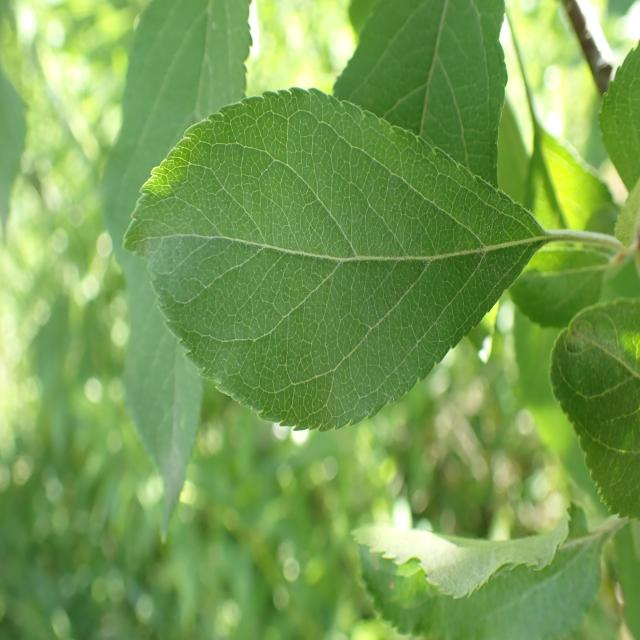healthy: (118, 0, 552, 432), (98, 0, 257, 541), (348, 501, 618, 640)
